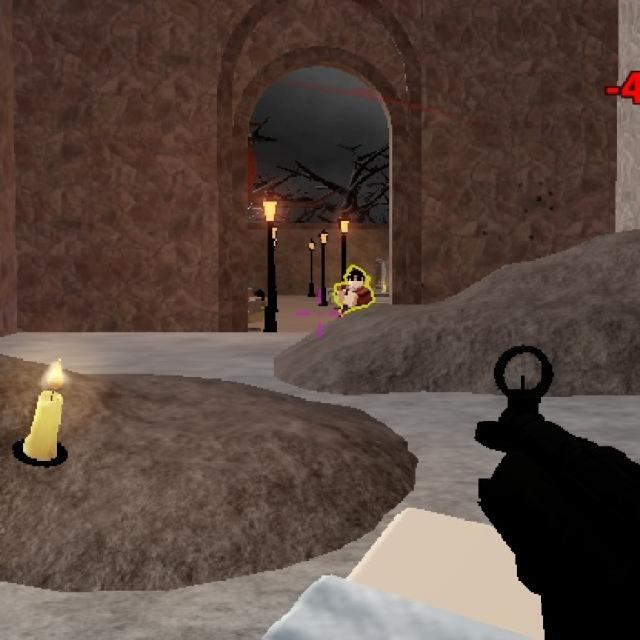player: (341, 269, 372, 323)
